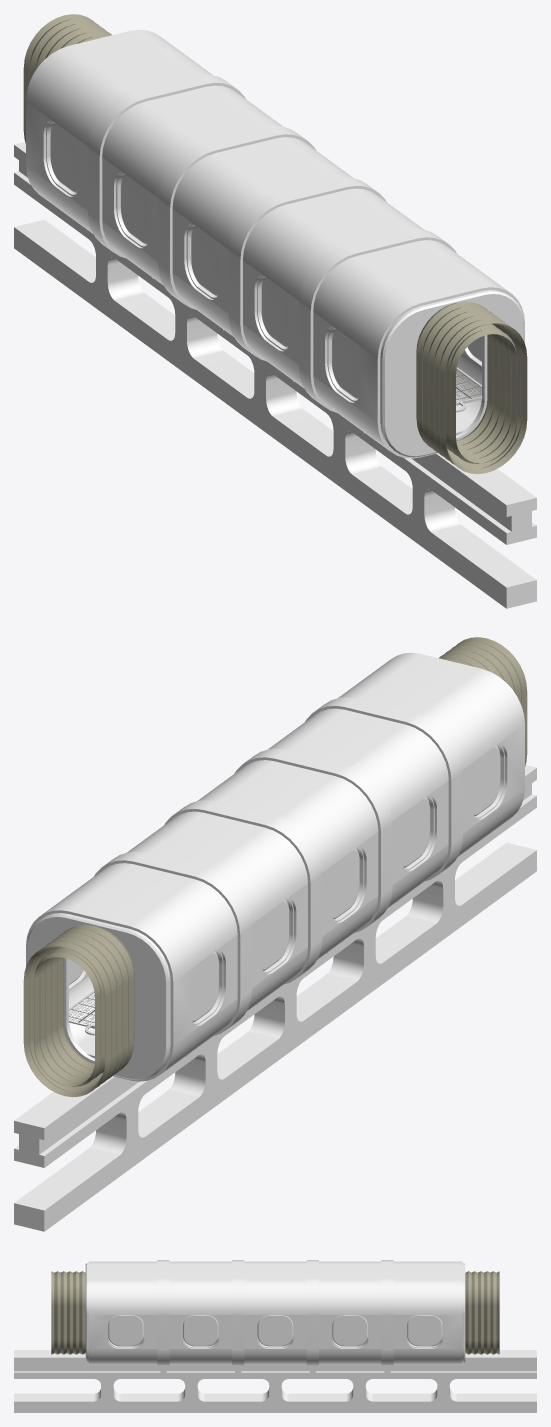
The model's file is bridge_large_alt.fbx.
The picture shows the model from 3 angles, top to bottom: view 1: azimuth 30°, elevation 25°; view 2: azimuth 150°, elevation 25°; view 3: azimuth 270°, elevation 25°; orthographic projection. The views are drawn at different scales.
Visible parts, largest first — view 1: plasteel_combined, airlock_seals, windowss, shielding_large; view 2: plasteel_combined, airlock_seals, windowss, shielding_large; view 3: plasteel_combined, airlock_seals, windowss.
Boxes of the visible parts, x1=… form: plasteel_combined: x1=14, y1=29, x2=536, y2=608; airlock_seals: x1=23, y1=14, x2=527, y2=474; windowss: x1=50, y1=123, x2=481, y2=399; shielding_large: x1=456, y1=351, x2=481, y2=432; plasteel_combined: x1=14, y1=652, x2=536, y2=1231; airlock_seals: x1=23, y1=637, x2=527, y2=1097; windowss: x1=69, y1=746, x2=500, y2=1022; shielding_large: x1=69, y1=974, x2=94, y2=1055; plasteel_combined: x1=14, y1=1260, x2=536, y2=1412; airlock_seals: x1=51, y1=1271, x2=499, y2=1354; windowss: x1=108, y1=1315, x2=442, y2=1346.
Bounding box in the file's own units: 7.5 × 12.25 × 42.
7 materials, 1 textured.
